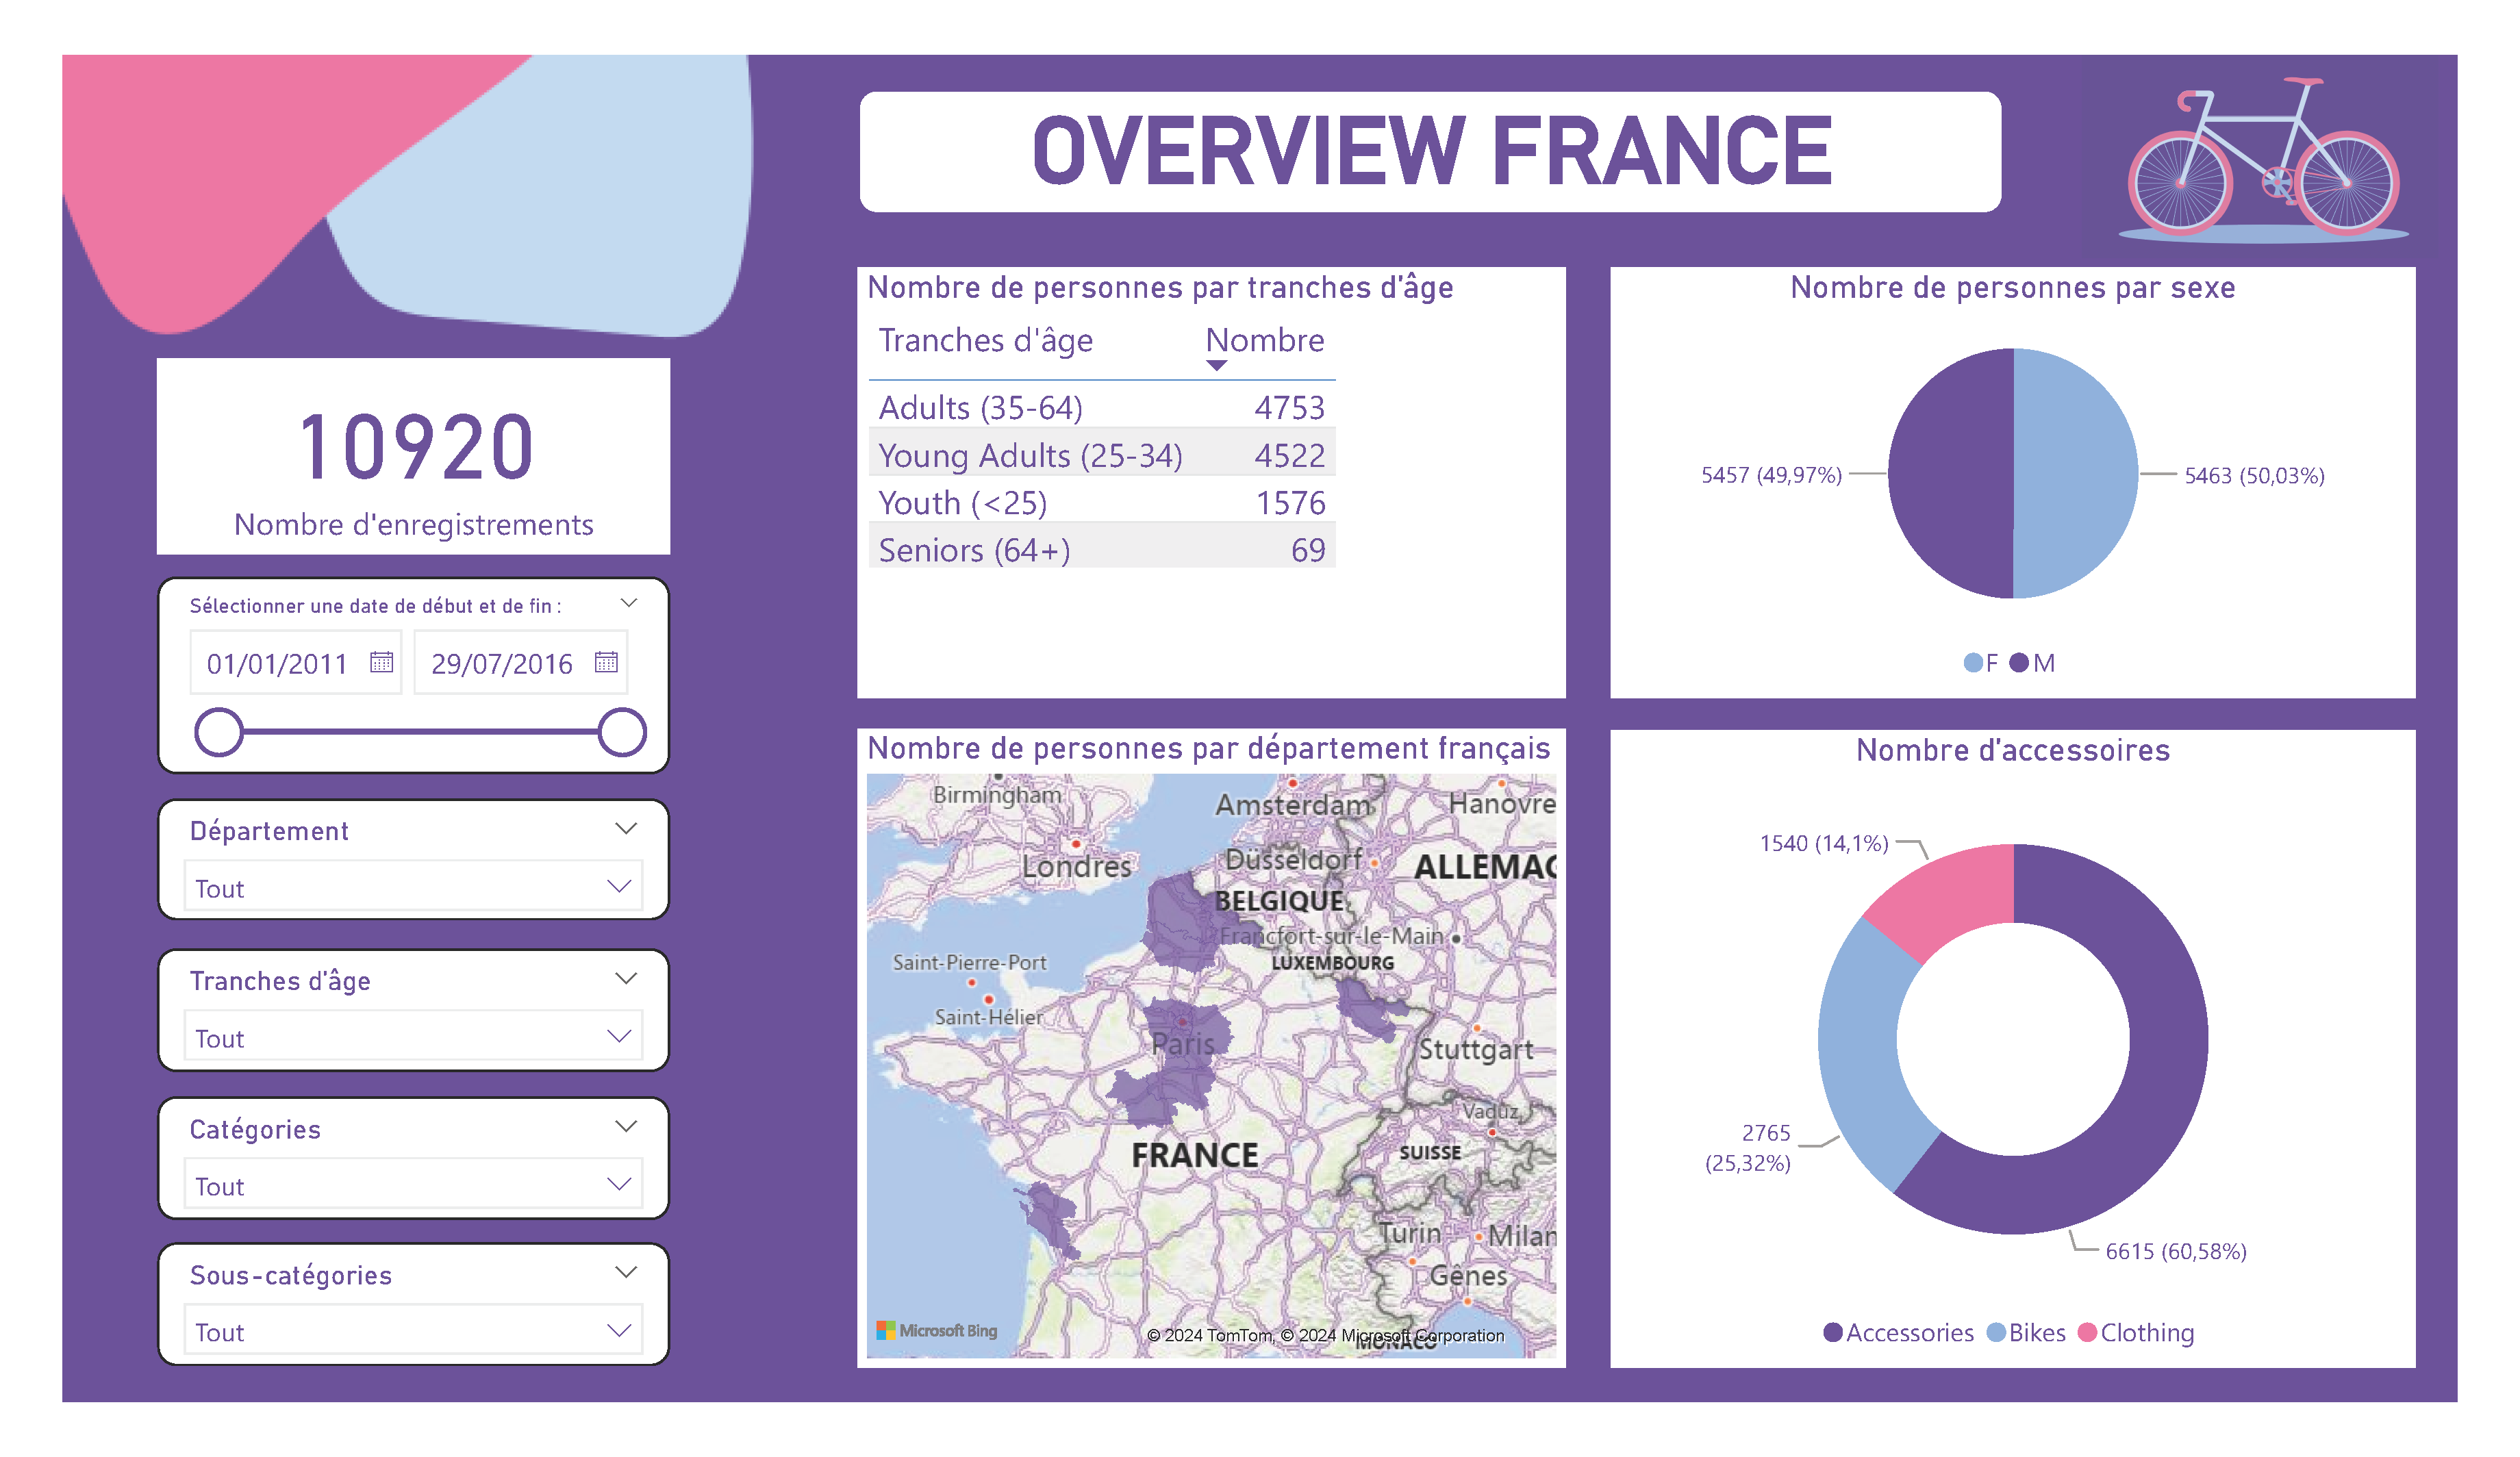

This screenshot's page, from the dashboard's own definition file:
{"tool":"powerbi","page":{"name":"Overview 1/2","canvas":[1280,720],"ordinal":0},"visuals":[{"type":"image","box":[0,0,1280.3,720.4],"z":0},{"type":"image","box":[1063.5,0,207.2,116.6],"z":1000},{"type":"textbox","title":"OVERVIEW FRANCE","box":[428.1,23.3,603.8,65.9],"z":2000},{"type":"tableEx","title":"Nombre de personnes par tranches d''âge","fields":{"Values":["france_df.Age_Group","CountNonNull(france_df.Age_Group)"]},"box":[428.1,116.6,373.2,227.8],"z":3000},{"type":"card","fields":{"Values":["CountNonNull(france_df.Date)"]},"box":[59,164.7,270.3,102.9],"z":4000},{"type":"pieChart","title":"Nombre de personnes par sexe","fields":{"Category":["france_df.Customer_Gender"],"Y":["CountNonNull(france_df.Customer_Gender)"]},"box":[824.7,116.6,424,227.8],"z":5000},{"type":"donutChart","title":"Nombre d''accessoires","fields":{"Category":["france_df.Product_Category"],"Y":["CountNonNull(france_df.Product_Category)"]},"box":[824.7,360.9,424,336.2],"z":6000},{"type":"filledMap","title":"Nombre de personnes par département français","fields":{"Category":["france_df.State"]},"box":[428.1,359.5,373.2,337.6],"z":7000},{"type":"slicer","fields":{"Values":["france_df.Date"]},"box":[59,279.9,270.3,104.3],"z":8000},{"type":"slicer","fields":{"Values":["france_df.State"]},"box":[59,396.6,270.3,64.5],"z":9000},{"type":"slicer","fields":{"Values":["france_df.Age_Group"]},"box":[59,476.2,270.3,64.5],"z":10000},{"type":"slicer","fields":{"Values":["france_df.Product_Category"]},"box":[59,554.4,270.3,64.5],"z":11000},{"type":"slicer","fields":{"Values":["france_df.Sub_Category"]},"box":[59,631.2,270.3,64.5],"z":12000}]}

Visuals, with their boxes in screenshot pixels (x1, y1, x2, y2), scaled from the page's 1280x720 canvas onto the 2520x1457 screenshot:
image: 0 0 2519 1456
image: 2094 0 2502 236
"OVERVIEW FRANCE" textbox: 843 47 2032 181
"Nombre de personnes par tranches d''âge" tableEx: 843 236 1578 697
card - CountNonNull(france_df.Date): 116 333 648 542
"Nombre de personnes par sexe" pieChart: 1624 236 2458 697
"Nombre d''accessoires" donutChart: 1624 731 2458 1410
"Nombre de personnes par département français" filledMap: 843 728 1578 1410
slicer - france_df.Date: 116 566 648 778
slicer - france_df.State: 116 802 648 933
slicer - france_df.Age_Group: 116 963 648 1094
slicer - france_df.Product_Category: 116 1122 648 1252
slicer - france_df.Sub_Category: 116 1278 648 1408
